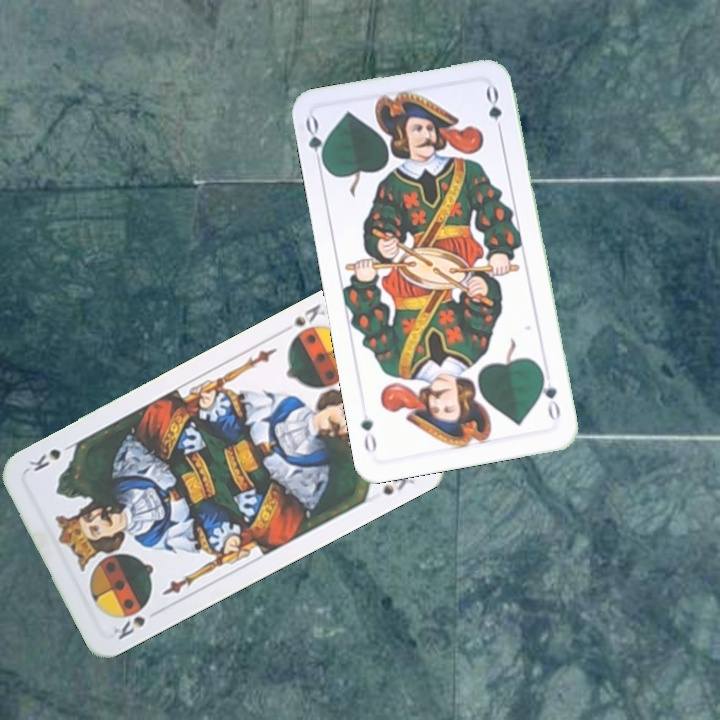GO: (301, 113, 330, 173), (536, 367, 563, 423)
SK: (278, 300, 328, 345), (109, 611, 148, 643)
